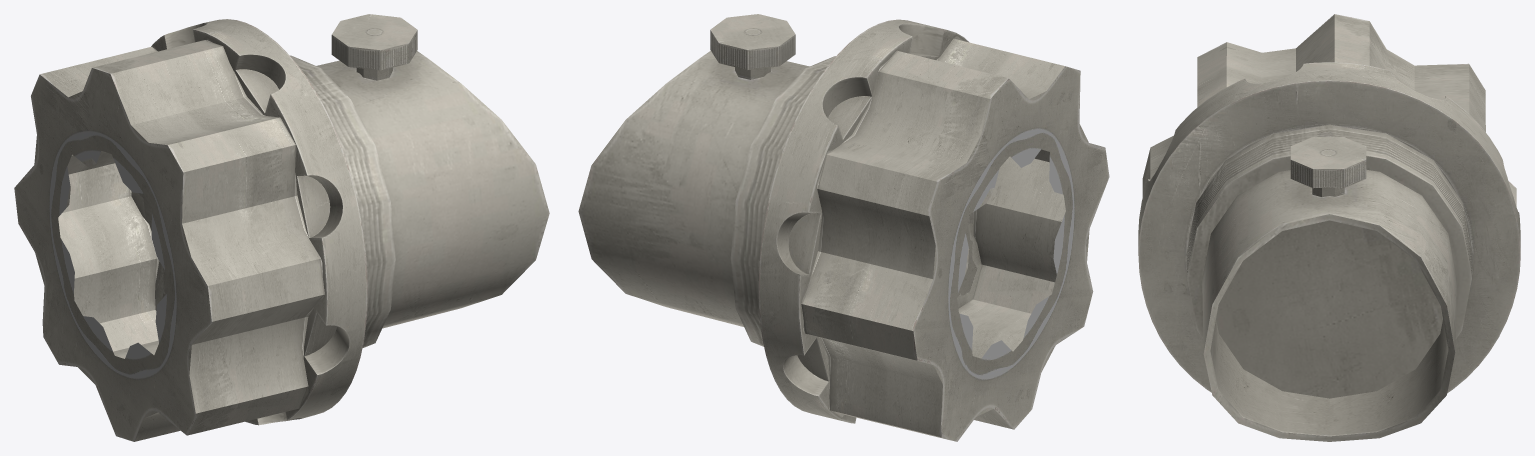
The model's file is guard_12_c_d.glb.
The picture shows the model from 3 angles, left to right: view 1: azimuth 30°, elevation 25°; view 2: azimuth 150°, elevation 25°; view 3: azimuth 270°, elevation 25°; orthographic projection. The views are drawn at different scales.
Visible parts, largest first — view 1: guard_12_c_d_lod0; view 2: guard_12_c_d_lod0; view 3: guard_12_c_d_lod0.
Part boxes in pixels (left/top/right/bottom): guard_12_c_d_lod0: left=14, top=14, right=549, bottom=441; guard_12_c_d_lod0: left=578, top=14, right=1109, bottom=441; guard_12_c_d_lod0: left=1138, top=14, right=1520, bottom=441.
Size of what is drawn, in the model's own units: 0.0478 by 0.0452 by 0.0452.
Materials: 1 (1 with a texture image).
